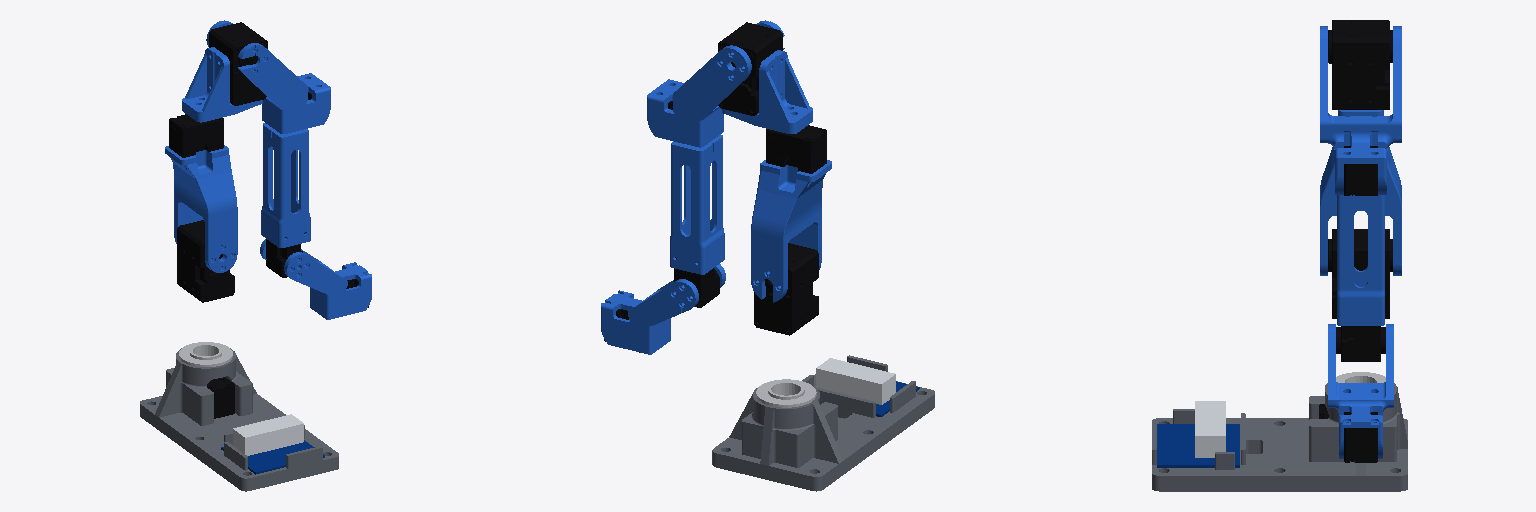
URDF robot description (ditto_leader_2xm):
<?xml version="1.0"?>
<!-- FACTR-style leader arm for the uFactory xArm7, 1:2 scale, variant 2xm, link 5 option a. Generated by leader/build.py. -->
<!-- Joint frames are the xArm7 joint frames with every length halved: same joint vector => same pose. -->
<!-- Inertial values are estimates from CAD volume and nominal servo masses. -->
<!-- link7 is the tool flange (servo 7 horn): the arm ends there, no handle or gripper is included. -->
<robot name="ditto_leader_2xm">
  <material name="print_reused"><color rgba="0.42 0.44 0.48 1"/></material>
  <material name="print_new"><color rgba="0.20 0.45 0.85 1"/></material>
  <material name="servo"><color rgba="0.09 0.09 0.10 1"/></material>
  <material name="steel"><color rgba="0.75 0.76 0.78 1"/></material>
  <material name="pcb"><color rgba="0.05 0.25 0.55 1"/></material>
  <material name="u2d2"><color rgba="0.85 0.87 0.90 1"/></material>
  <link name="base_link">
    <visual>
      <origin xyz="0.000000000 0.000000000 0.000000000" rpy="0.000000000000 -0.000000000000 0.000000000000"/>
      <geometry><mesh filename="meshes/factr_base.stl" scale="0.001 0.001 0.001"/></geometry>
      <material name="print_reused"/>
    </visual>
    <visual>
      <origin xyz="0.000000000 0.000000000 0.000000000" rpy="0.000000000000 -0.000000000000 0.000000000000"/>
      <geometry><mesh filename="meshes/bearing_3_4in.stl" scale="0.001 0.001 0.001"/></geometry>
      <material name="steel"/>
    </visual>
    <visual>
      <origin xyz="0.000000000 0.000000000 0.000000000" rpy="0.000000000000 -0.000000000000 0.000000000000"/>
      <geometry><mesh filename="meshes/servo1_xc330.stl" scale="0.001 0.001 0.001"/></geometry>
      <material name="servo"/>
    </visual>
    <visual>
      <origin xyz="0.000000000 0.000000000 0.000000000" rpy="0.000000000000 -0.000000000000 0.000000000000"/>
      <geometry><mesh filename="meshes/power_hub_board.stl" scale="0.001 0.001 0.001"/></geometry>
      <material name="pcb"/>
    </visual>
    <visual>
      <origin xyz="0.000000000 0.000000000 0.000000000" rpy="0.000000000000 -0.000000000000 0.000000000000"/>
      <geometry><mesh filename="meshes/u2d2.stl" scale="0.001 0.001 0.001"/></geometry>
      <material name="u2d2"/>
    </visual>
    <collision>
      <origin xyz="0.000000000 0.000000000 0.000000000" rpy="0.000000000000 -0.000000000000 0.000000000000"/>
      <geometry><mesh filename="meshes/factr_base.stl" scale="0.001 0.001 0.001"/></geometry>
      
    </collision>
  </link>
  <link name="link1">
    <inertial>
      <origin xyz="-0.000000 -0.000000 -0.023192" rpy="0 0 0"/>
      <mass value="0.11109"/>
      <inertia ixx="7.9205e-05" ixy="3.7288e-15" ixz="-3.6903e-17" iyy="7.8156e-05" iyz="-2.8443e-09" izz="2.1080e-05"/>
    </inertial>
    <visual>
      <origin xyz="0.000000000 0.000000000 0.000000000" rpy="0.000000000000 -0.000000000000 0.000000000000"/>
      <geometry><mesh filename="meshes/link1.stl" scale="0.001 0.001 0.001"/></geometry>
      <material name="print_new"/>
    </visual>
    <collision>
      <origin xyz="0.000000000 0.000000000 0.000000000" rpy="0.000000000000 -0.000000000000 0.000000000000"/>
      <geometry><mesh filename="meshes/link1.stl" scale="0.001 0.001 0.001"/></geometry>
      
    </collision>
    <visual>
      <origin xyz="0.000000000 0.000000000 0.000000000" rpy="-1.570796326795 -0.000000000000 -0.000000000000"/>
      <geometry><mesh filename="meshes/xm430.stl" scale="0.001 0.001 0.001"/></geometry>
      <material name="servo"/>
    </visual>
    <collision>
      <origin xyz="0.000000000 0.000000000 -0.012000000" rpy="-1.570796326795 -0.000000000000 -0.000000000000"/>
      <geometry><box size="0.02820 0.04620 0.03370"/></geometry>
    </collision>
  </link>
  <link name="link2">
    <inertial>
      <origin xyz="-0.004755 -0.063664 -0.000113" rpy="0 0 0"/>
      <mass value="0.05426"/>
      <inertia ixx="4.5631e-05" ixy="-4.0201e-06" ixz="2.9227e-08" iyy="1.1604e-05" iyz="4.2209e-07" izz="4.3114e-05"/>
    </inertial>
    <visual>
      <origin xyz="0.000000000 0.000000000 0.000000000" rpy="0.000000000000 -0.000000000000 0.000000000000"/>
      <geometry><mesh filename="meshes/2xm/link2.stl" scale="0.001 0.001 0.001"/></geometry>
      <material name="print_new"/>
    </visual>
    <collision>
      <origin xyz="0.000000000 0.000000000 0.000000000" rpy="0.000000000000 -0.000000000000 0.000000000000"/>
      <geometry><mesh filename="meshes/2xm/link2.stl" scale="0.001 0.001 0.001"/></geometry>
      
    </collision>
    <visual>
      <origin xyz="0.000000000 -0.088750000 0.000000000" rpy="0.000000000000 -1.570796326795 1.570796326795"/>
      <geometry><mesh filename="meshes/xc330.stl" scale="0.001 0.001 0.001"/></geometry>
      <material name="servo"/>
    </visual>
    <collision>
      <origin xyz="-0.007500000 -0.088750000 0.000000000" rpy="0.000000000000 -1.570796326795 1.570796326795"/>
      <geometry><box size="0.01970 0.03370 0.02270"/></geometry>
    </collision>
  </link>
  <link name="link3">
    <inertial>
      <origin xyz="0.023540 0.000000 -0.015056" rpy="0 0 0"/>
      <mass value="0.10012"/>
      <inertia ixx="3.1417e-05" ixy="1.0123e-15" ixz="-4.2624e-06" iyy="3.4073e-05" iyz="1.0572e-15" izz="2.1124e-05"/>
    </inertial>
    <visual>
      <origin xyz="0.000000000 0.000000000 0.000000000" rpy="0.000000000000 -0.000000000000 0.000000000000"/>
      <geometry><mesh filename="meshes/2xm/link3.stl" scale="0.001 0.001 0.001"/></geometry>
      <material name="print_new"/>
    </visual>
    <collision>
      <origin xyz="0.000000000 0.000000000 0.000000000" rpy="0.000000000000 -0.000000000000 0.000000000000"/>
      <geometry><mesh filename="meshes/2xm/link3.stl" scale="0.001 0.001 0.001"/></geometry>
      
    </collision>
    <visual>
      <origin xyz="0.026250000 0.000000000 0.000000000" rpy="-1.570796326795 0.000000000000 -3.141592653590"/>
      <geometry><mesh filename="meshes/xm430.stl" scale="0.001 0.001 0.001"/></geometry>
      <material name="servo"/>
    </visual>
    <collision>
      <origin xyz="0.026250000 0.000000000 -0.012000000" rpy="-1.570796326795 0.000000000000 -3.141592653590"/>
      <geometry><box size="0.02820 0.04620 0.03370"/></geometry>
    </collision>
  </link>
  <link name="link4">
    <inertial>
      <origin xyz="0.036651 -0.042677 -0.000165" rpy="0 0 0"/>
      <mass value="0.06131"/>
      <inertia ixx="3.0455e-05" ixy="1.3523e-05" ixz="-4.2318e-07" iyy="2.7591e-05" iyz="4.3157e-07" izz="3.6407e-05"/>
    </inertial>
    <visual>
      <origin xyz="0.000000000 0.000000000 0.000000000" rpy="0.000000000000 -0.000000000000 0.000000000000"/>
      <geometry><mesh filename="meshes/link4.stl" scale="0.001 0.001 0.001"/></geometry>
      <material name="print_new"/>
    </visual>
    <collision>
      <origin xyz="0.000000000 0.000000000 0.000000000" rpy="0.000000000000 -0.000000000000 0.000000000000"/>
      <geometry><mesh filename="meshes/link4.stl" scale="0.001 0.001 0.001"/></geometry>
      
    </collision>
    <visual>
      <origin xyz="0.038750000 -0.055500000 0.000000000" rpy="0.000000000000 1.570796326795 -1.570796326795"/>
      <geometry><mesh filename="meshes/xc330.stl" scale="0.001 0.001 0.001"/></geometry>
      <material name="servo"/>
    </visual>
    <collision>
      <origin xyz="0.046250000 -0.055500000 0.000000000" rpy="0.000000000000 1.570796326795 -1.570796326795"/>
      <geometry><box size="0.01970 0.03370 0.02270"/></geometry>
    </collision>
  </link>
  <link name="link5">
    <inertial>
      <origin xyz="0.000002 -0.000000 -0.031145" rpy="0 0 0"/>
      <mass value="0.04100"/>
      <inertia ixx="4.9881e-05" ixy="-2.7786e-16" ixz="5.5767e-09" iyy="4.9208e-05" iyz="-2.1706e-15" izz="5.0850e-06"/>
    </inertial>
    <visual>
      <origin xyz="0.000000000 0.000000000 0.000000000" rpy="0.000000000000 -0.000000000000 0.000000000000"/>
      <geometry><mesh filename="meshes/link5a.stl" scale="0.001 0.001 0.001"/></geometry>
      <material name="print_new"/>
    </visual>
    <collision>
      <origin xyz="0.000000000 0.000000000 0.000000000" rpy="0.000000000000 -0.000000000000 0.000000000000"/>
      <geometry><mesh filename="meshes/link5a.stl" scale="0.001 0.001 0.001"/></geometry>
      
    </collision>
    <visual>
      <origin xyz="0.000000000 0.000000000 0.000000000" rpy="-1.570796326795 0.000000000000 -3.141592653590"/>
      <geometry><mesh filename="meshes/xc330_idler.stl" scale="0.001 0.001 0.001"/></geometry>
      <material name="servo"/>
    </visual>
    <collision>
      <origin xyz="0.000000000 0.000000000 -0.007500000" rpy="-1.570796326795 0.000000000000 -3.141592653590"/>
      <geometry><box size="0.01970 0.03370 0.02270"/></geometry>
    </collision>
  </link>
  <link name="link6">
    <inertial>
      <origin xyz="0.037248 0.030539 0.000021" rpy="0 0 0"/>
      <mass value="0.04366"/>
      <inertia ixx="1.1742e-05" ixy="-6.4941e-06" ixz="3.4125e-08" iyy="1.5637e-05" iyz="2.8753e-08" izz="1.8933e-05"/>
    </inertial>
    <visual>
      <origin xyz="0.000000000 0.000000000 0.000000000" rpy="0.000000000000 -0.000000000000 0.000000000000"/>
      <geometry><mesh filename="meshes/link6.stl" scale="0.001 0.001 0.001"/></geometry>
      <material name="print_new"/>
    </visual>
    <collision>
      <origin xyz="0.000000000 0.000000000 0.000000000" rpy="0.000000000000 -0.000000000000 0.000000000000"/>
      <geometry><mesh filename="meshes/link6.stl" scale="0.001 0.001 0.001"/></geometry>
      
    </collision>
    <visual>
      <origin xyz="0.038000000 0.038000000 0.000000000" rpy="0.000000000000 -1.570796326795 -1.570796326795"/>
      <geometry><mesh filename="meshes/xc330.stl" scale="0.001 0.001 0.001"/></geometry>
      <material name="servo"/>
    </visual>
    <collision>
      <origin xyz="0.045500000 0.038000000 0.000000000" rpy="0.000000000000 -1.570796326795 -1.570796326795"/>
      <geometry><box size="0.01970 0.03370 0.02270"/></geometry>
    </collision>
  </link>
  <link name="link7">
    <inertial>
      <origin xyz="0.000000 0.000000 0.002500" rpy="0 0 0"/>
      <mass value="0.00100"/>
      <inertia ixx="2.2083e-08" ixy="0.0000e+00" ixz="0.0000e+00" iyy="2.2083e-08" iyz="0.0000e+00" izz="4.2667e-08"/>
    </inertial>
  </link>
  <joint name="joint1" type="revolute">
    <parent link="base_link"/>
    <child link="link1"/>
    <origin xyz="0.000000000 0.000000000 0.133500000" rpy="0.000000000000 -0.000000000000 0.000000000000"/>
    <axis xyz="0 0 1"/>
    <limit lower="-6.283185307179586" upper="6.283185307179586" effort="0.92" velocity="6.8"/>
  </joint>
  <joint name="joint2" type="revolute">
    <parent link="link1"/>
    <child link="link2"/>
    <origin xyz="0.000000000 0.000000000 0.000000000" rpy="-1.570796326795 -0.000000000000 0.000000000000"/>
    <axis xyz="0 0 1"/>
    <limit lower="-2.059" upper="2.0944" effort="3.0" velocity="6.8"/>
  </joint>
  <joint name="joint3" type="revolute">
    <parent link="link2"/>
    <child link="link3"/>
    <origin xyz="0.000000000 -0.146500000 0.000000000" rpy="1.570796326795 -0.000000000000 0.000000000000"/>
    <axis xyz="0 0 1"/>
    <limit lower="-6.283185307179586" upper="6.283185307179586" effort="0.92" velocity="6.8"/>
  </joint>
  <joint name="joint4" type="revolute">
    <parent link="link3"/>
    <child link="link4"/>
    <origin xyz="0.026250000 0.000000000 0.000000000" rpy="1.570796326795 -0.000000000000 0.000000000000"/>
    <axis xyz="0 0 1"/>
    <limit lower="-0.19198" upper="3.927" effort="3.0" velocity="6.8"/>
  </joint>
  <joint name="joint5" type="revolute">
    <parent link="link4"/>
    <child link="link5"/>
    <origin xyz="0.038750000 -0.171250000 0.000000000" rpy="1.570796326795 -0.000000000000 0.000000000000"/>
    <axis xyz="0 0 1"/>
    <limit lower="-6.283185307179586" upper="6.283185307179586" effort="0.92" velocity="6.8"/>
  </joint>
  <joint name="joint6" type="revolute">
    <parent link="link5"/>
    <child link="link6"/>
    <origin xyz="0.000000000 0.000000000 0.000000000" rpy="1.570796326795 -0.000000000000 0.000000000000"/>
    <axis xyz="0 0 1"/>
    <limit lower="-1.69297" upper="3.141592653589793" effort="0.92" velocity="6.8"/>
  </joint>
  <joint name="joint7" type="revolute">
    <parent link="link6"/>
    <child link="link7"/>
    <origin xyz="0.038000000 0.048500000 0.000000000" rpy="-1.570796326795 -0.000000000000 0.000000000000"/>
    <axis xyz="0 0 1"/>
    <limit lower="-6.283185307179586" upper="6.283185307179586" effort="0.92" velocity="6.8"/>
  </joint>
</robot>

--- What the picture shows (computed from the rendered views, not written in the file) ---
The picture shows the robot from 3 angles, left to right: view 1: azimuth 30°, elevation 25°; view 2: azimuth 150°, elevation 25°; view 3: azimuth 270°, elevation 25°; orthographic projection.
Robot: ditto_leader_2xm — 8 links, 7 joints (7 revolute); root link base_link; default pose: every joint at zero.
Links seen in each view (by area): view 1: base_link, link2, link5, link3, link4, link6, link1; view 2: base_link, link2, link5, link3, link4, link6, link1; view 3: base_link, link5, link4, link3, link6, link2, link1.
Boxes of the visible links, x1,y1,x2,y2 form: base_link: (140,342,338,491); link2: (165,114,237,272); link5: (261,123,310,277); link3: (182,22,267,122); link4: (206,20,330,133); link6: (260,239,371,319); link1: (177,220,234,302); base_link: (712,355,934,491); link2: (751,125,831,302); link5: (670,134,724,307); link3: (718,22,812,133); link4: (647,20,784,147); link6: (601,264,725,354); link1: (754,243,818,335); base_link: (1152,372,1407,491); link5: (1336,195,1385,361); link4: (1320,26,1401,195); link3: (1328,20,1392,116); link6: (1328,324,1393,462); link2: (1320,147,1401,275); link1: (1328,229,1392,318).
Size in the robot's own frame: 0.1685 by 0.15 by 0.292 metres.
Meshes: 14 distinct files referenced, 16 mesh visuals loaded (13 binary STL); not drawn: 1 (reference not matched to a file when rendering).
